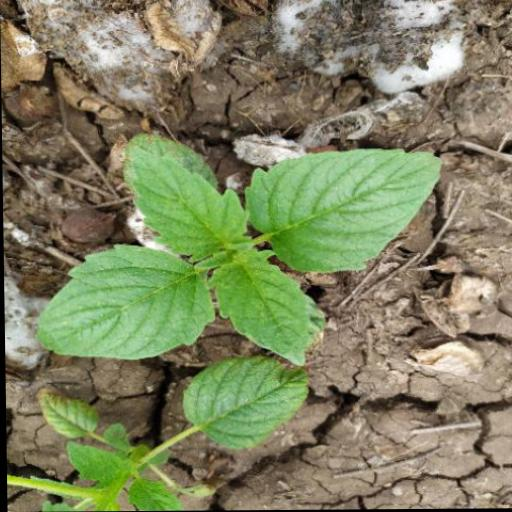crop: (29, 129, 453, 362), (6, 363, 318, 512)
